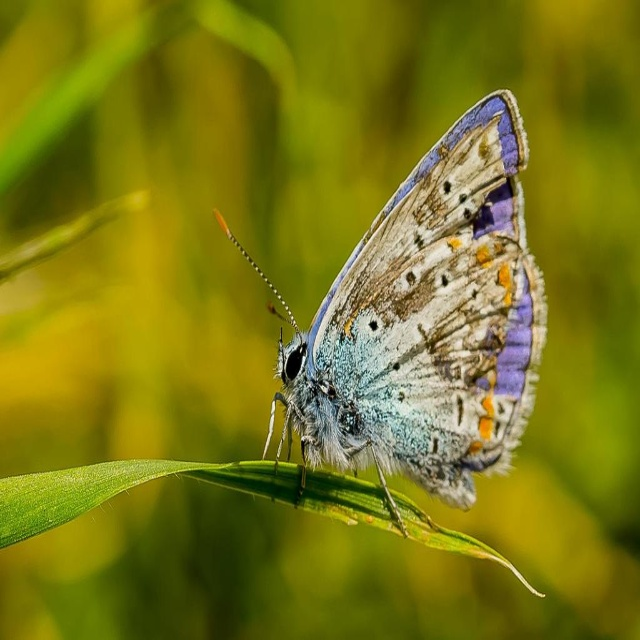Butterfly: (219, 65, 563, 558)
